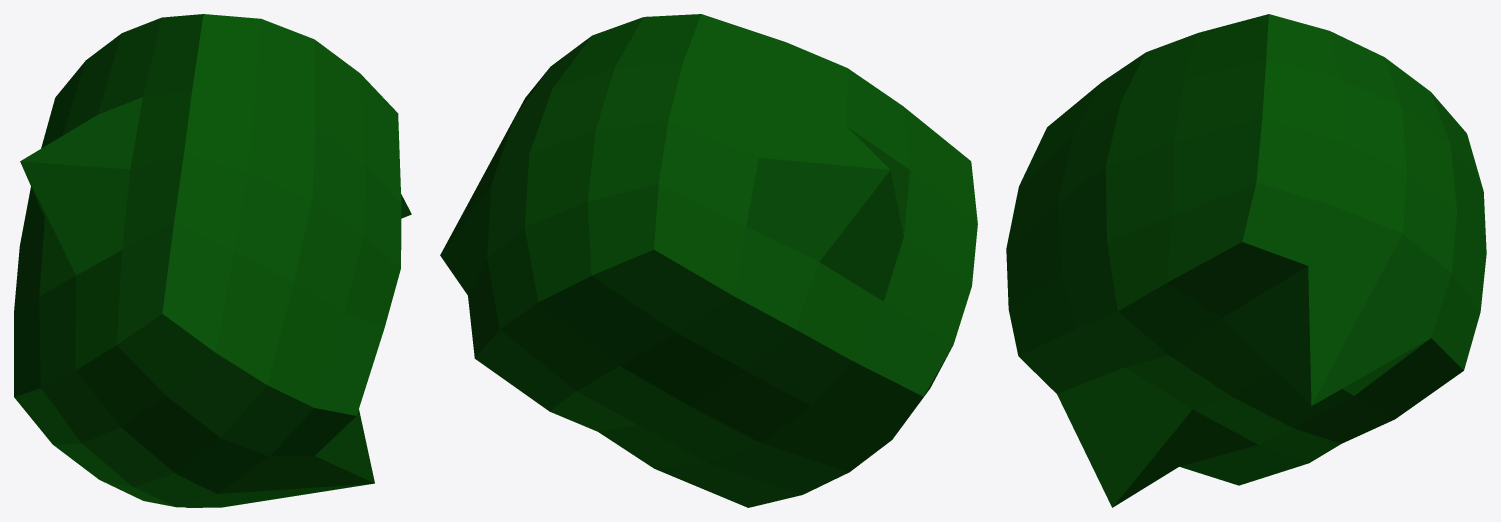
The model's file is torso_lower.obj.
3 views of the same model, side by side, from view 1: azimuth 30°, elevation 25°; view 2: azimuth 150°, elevation 25°; view 3: azimuth 270°, elevation 25° (orthographic). The views are drawn at different scales.
Visible parts, largest first — view 1: torso_lower; view 2: torso_lower; view 3: torso_lower.
Boxes of the visible parts, x1,y1,x2,y2 form: torso_lower: (14, 14, 411, 507); torso_lower: (440, 14, 977, 507); torso_lower: (1006, 14, 1486, 507).
Size of the model in its own units: 1.59 by 1.67 by 1.5.
